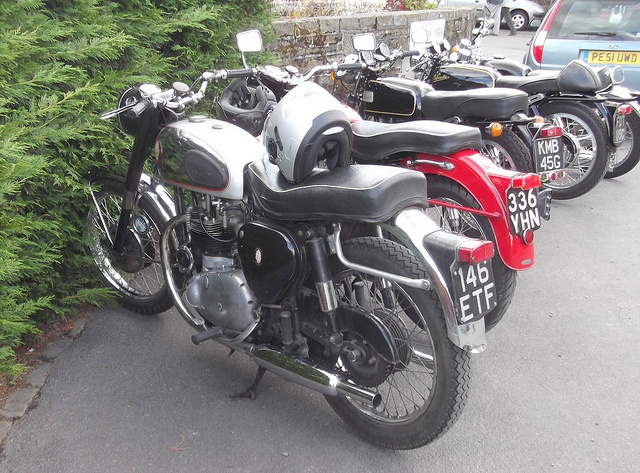non-vehicle: (89, 64, 500, 452), (233, 28, 542, 318), (337, 45, 569, 227), (397, 39, 614, 198), (444, 15, 640, 177)
